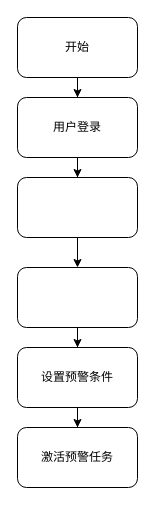
The diagram is 155 pixels wide and 505 high, and some of its shapes have lost their labels. The box of each missing label's shape, as (x1, y1, x2, y2) in pixels:
指定监控区域: (16, 266, 138, 328)
指定监控对象: (16, 176, 138, 238)
